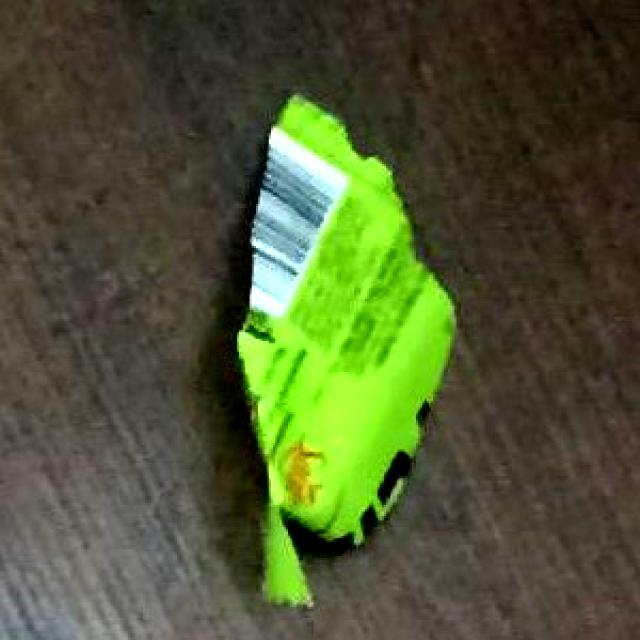Trash: (236, 93, 460, 605)
